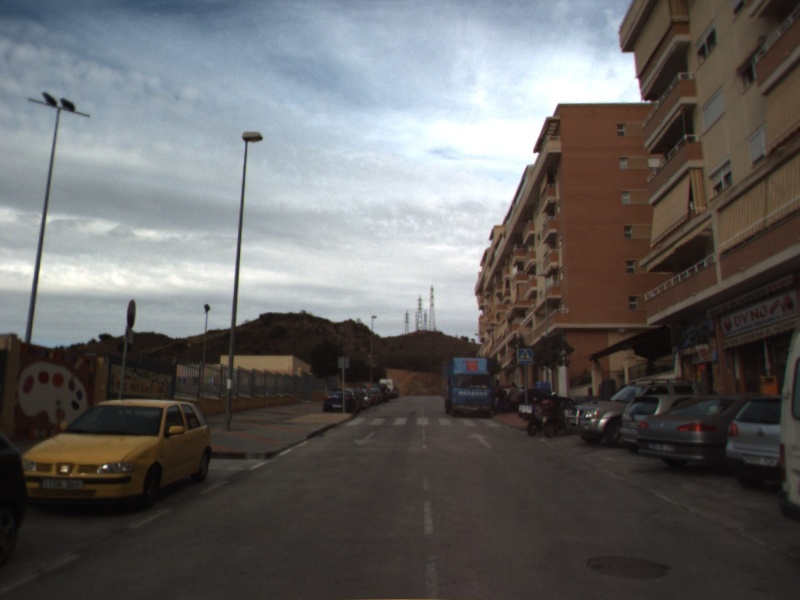STRAIGHT: (466, 430, 495, 450)
